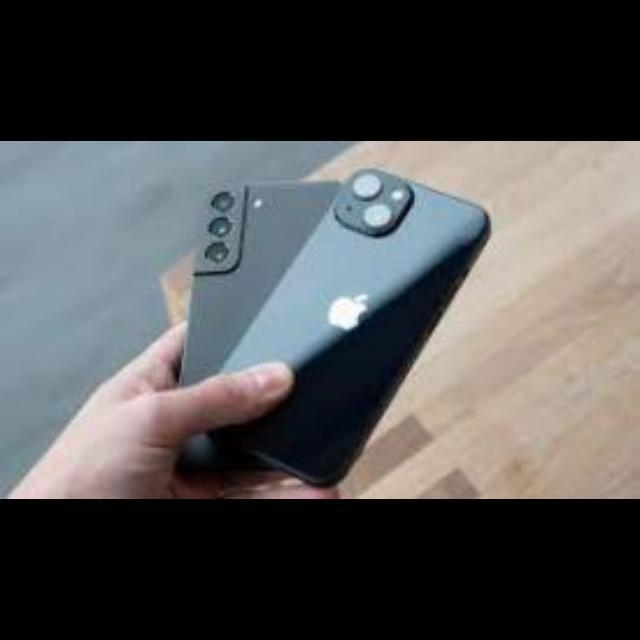PhoneUse: (212, 168, 490, 486), (172, 180, 340, 474)
